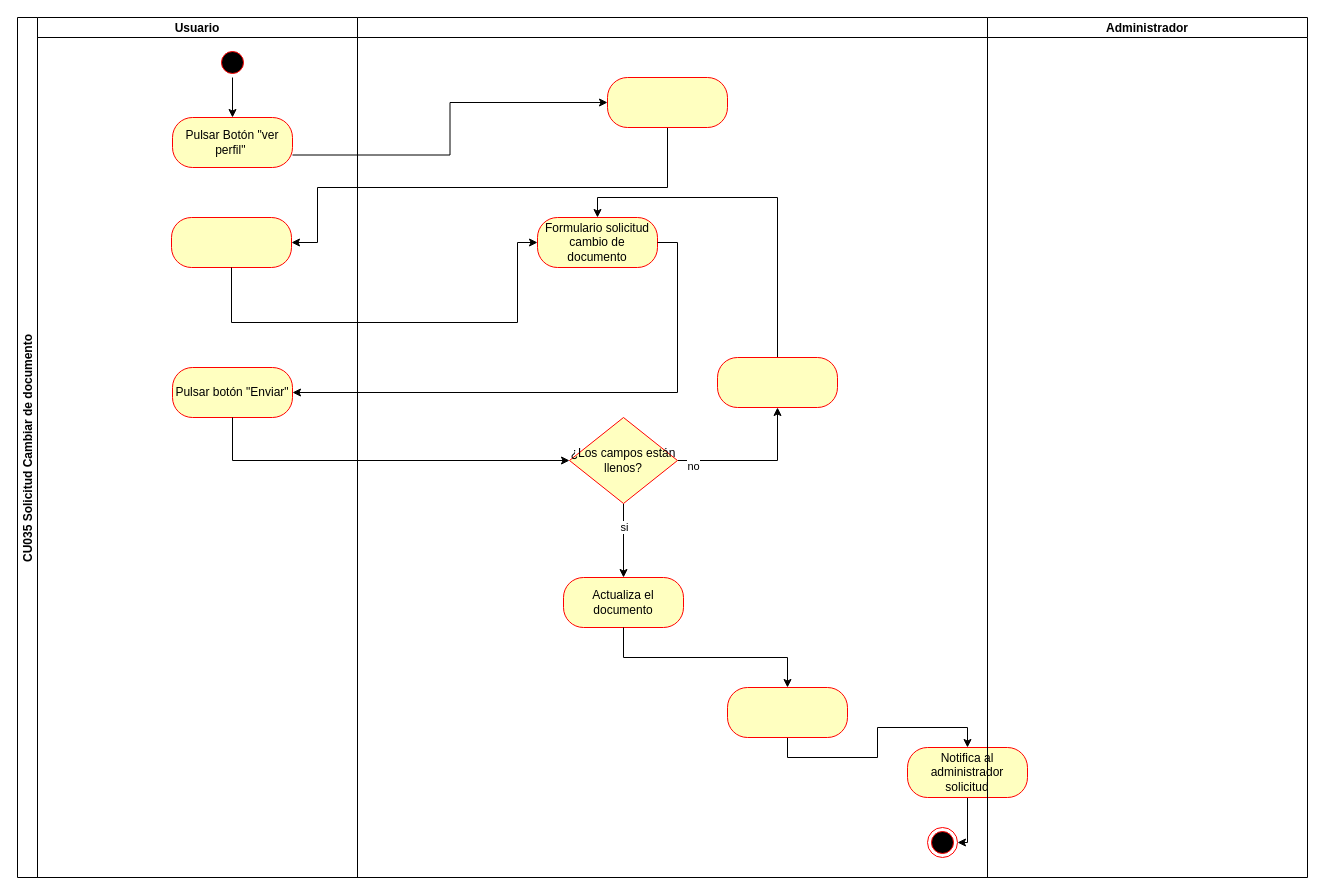
Image size: 1325x895. Some labels were removed from this diagram. The box of each missing label's shape, as (x1, y1, x2, y2) in pixels:
Apartado de su perfil: (606, 76, 728, 128)
Muestra mensaje de error: (716, 356, 838, 408)
Muestra mensaje de éxito: (726, 686, 848, 738)
Pulsar botón "Solicitud de cambio de Documento": (170, 216, 292, 268)
Sistema: (356, 16, 988, 878)
